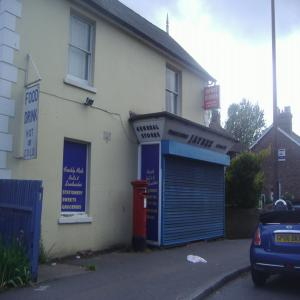Vehicle-registration-plate: (275, 234, 300, 243)
